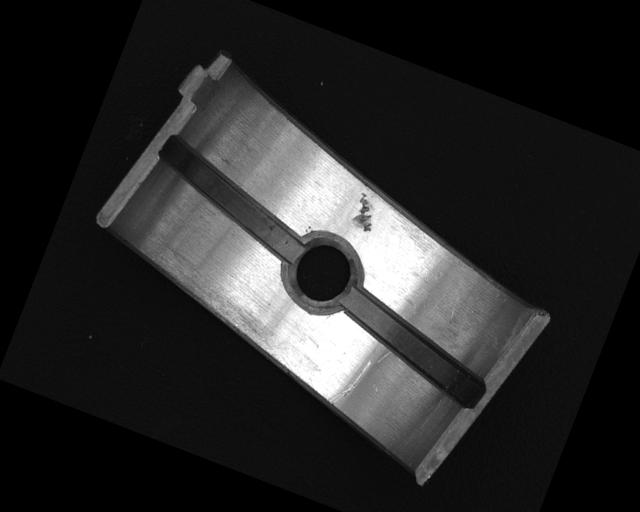bruise: (347, 190, 383, 235)
gap: (142, 132, 323, 266), (324, 285, 502, 410)
hole: (273, 224, 374, 322)
nick: (325, 351, 370, 412)
scratch: (124, 233, 347, 385)
